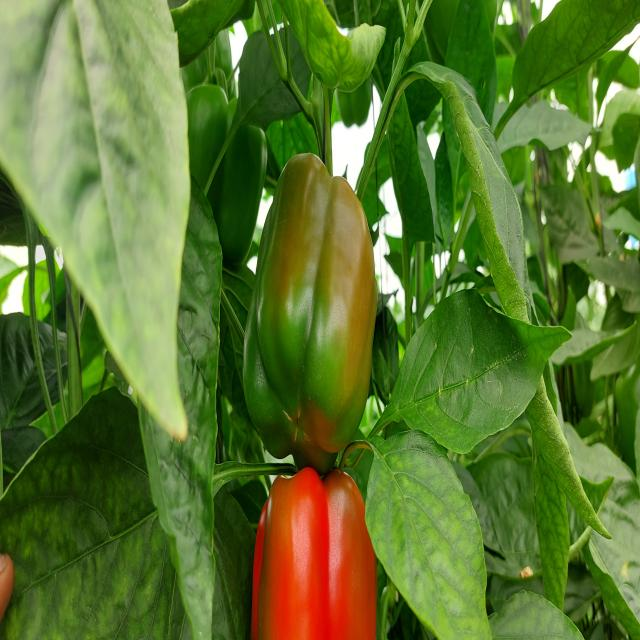BrownishRed--Can-be-Harvested: (260, 140, 384, 476)
Red-Ready-to-Harvest: (252, 465, 376, 640)
